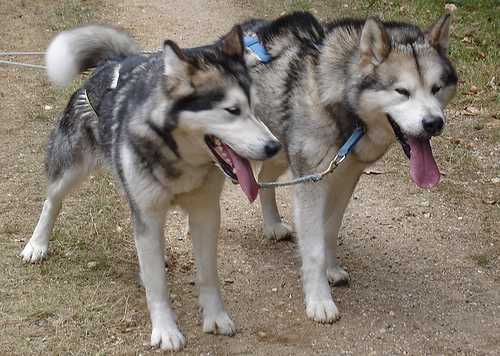dog: (22, 22, 281, 353), (242, 8, 458, 324)
